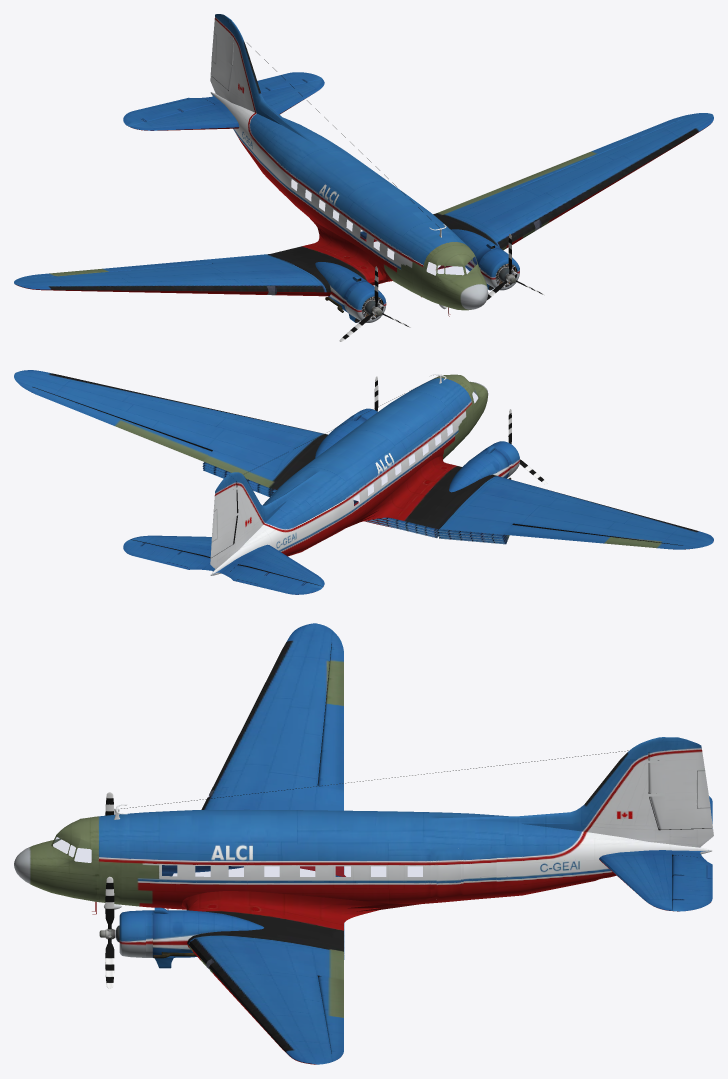
Rendered from ALCI-Lidia-restaurated.gltf.
3 renders of one model, top to bottom at view 1: azimuth 30°, elevation 25°; view 2: azimuth 150°, elevation 25°; view 3: azimuth 270°, elevation 25°, orthographic. The views are drawn at different scales.
Parts seen in each view (by area): view 1: Exterior; view 2: Exterior, Pose_flaps_1, Pose_flaps_2, Pose_flaps_3, Pose_flaps_4; view 3: Exterior, Spin_0.
Part boxes in pixels (box(x1,y1,x2,y2)): Exterior: box(14, 14, 713, 322); Exterior: box(14, 370, 713, 594); Pose_flaps_1: box(203, 462, 505, 537); Pose_flaps_2: box(202, 465, 507, 539); Pose_flaps_3: box(203, 467, 508, 542); Pose_flaps_4: box(203, 469, 509, 544); Exterior: box(14, 623, 713, 1064); Spin_0: box(99, 876, 115, 988).
Size of the model in its own units: 29.33 by 5.84 by 19.68.
Materials: 6 (6 with a texture image).
